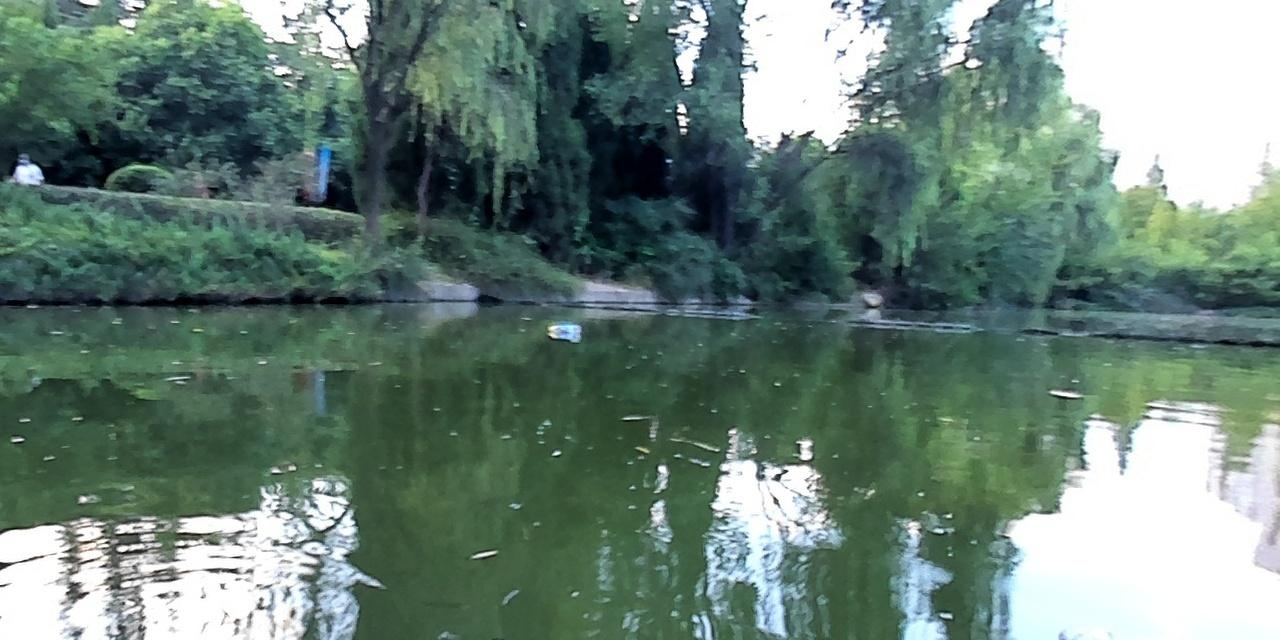bottle: (547, 321, 579, 337)
